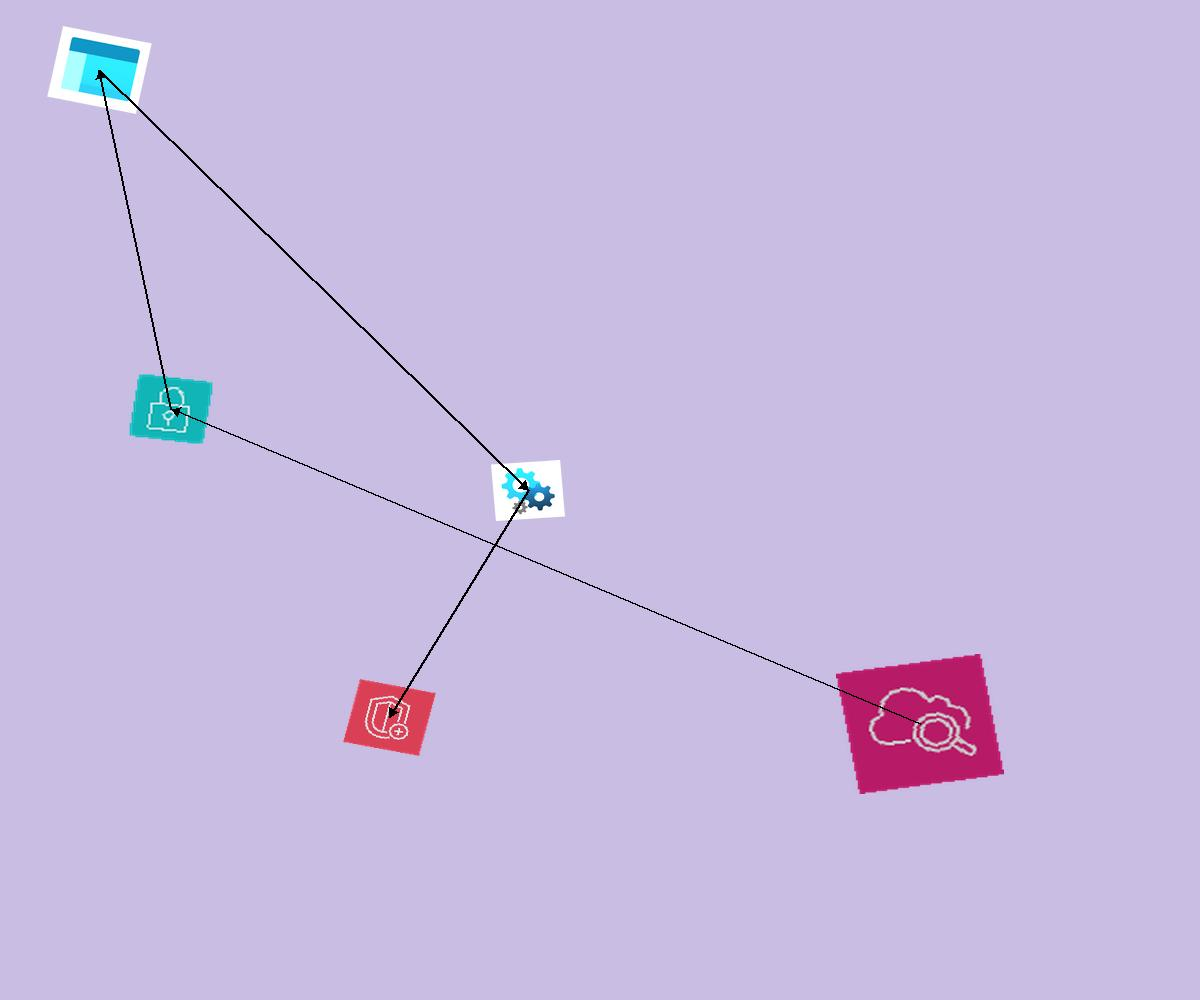AWS-CloudWatch: (836, 654, 1004, 794)
AWS-Private-subnet: (128, 373, 214, 445)
AWS-Shield: (343, 679, 436, 756)
Azure_api: (491, 460, 565, 521)
Azure_management-portal: (47, 26, 152, 114)
